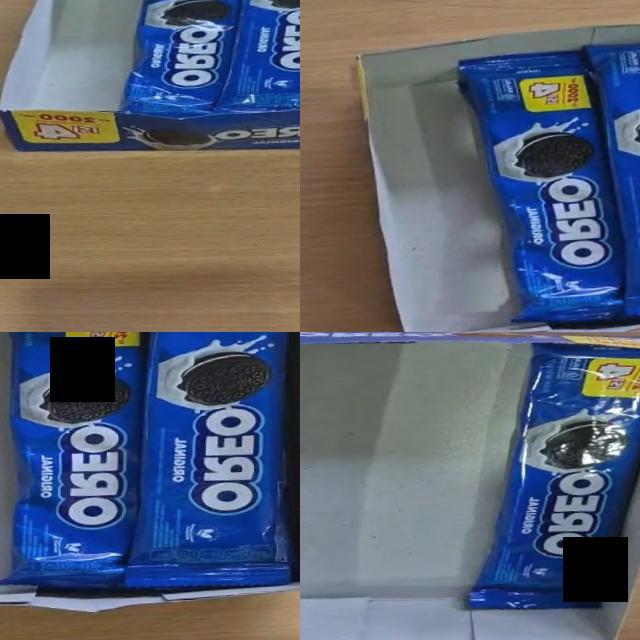Oreo: (451, 334, 640, 616), (108, 332, 300, 594), (454, 46, 629, 328), (0, 332, 165, 594), (110, 0, 255, 120), (584, 36, 640, 318), (202, 0, 300, 114)
